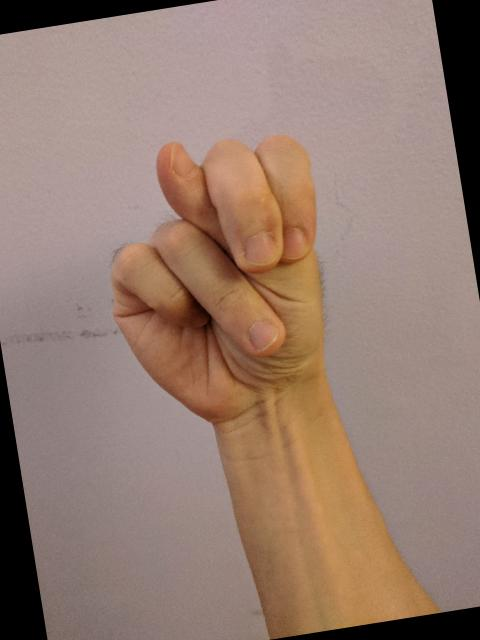N: (83, 112, 355, 442)
